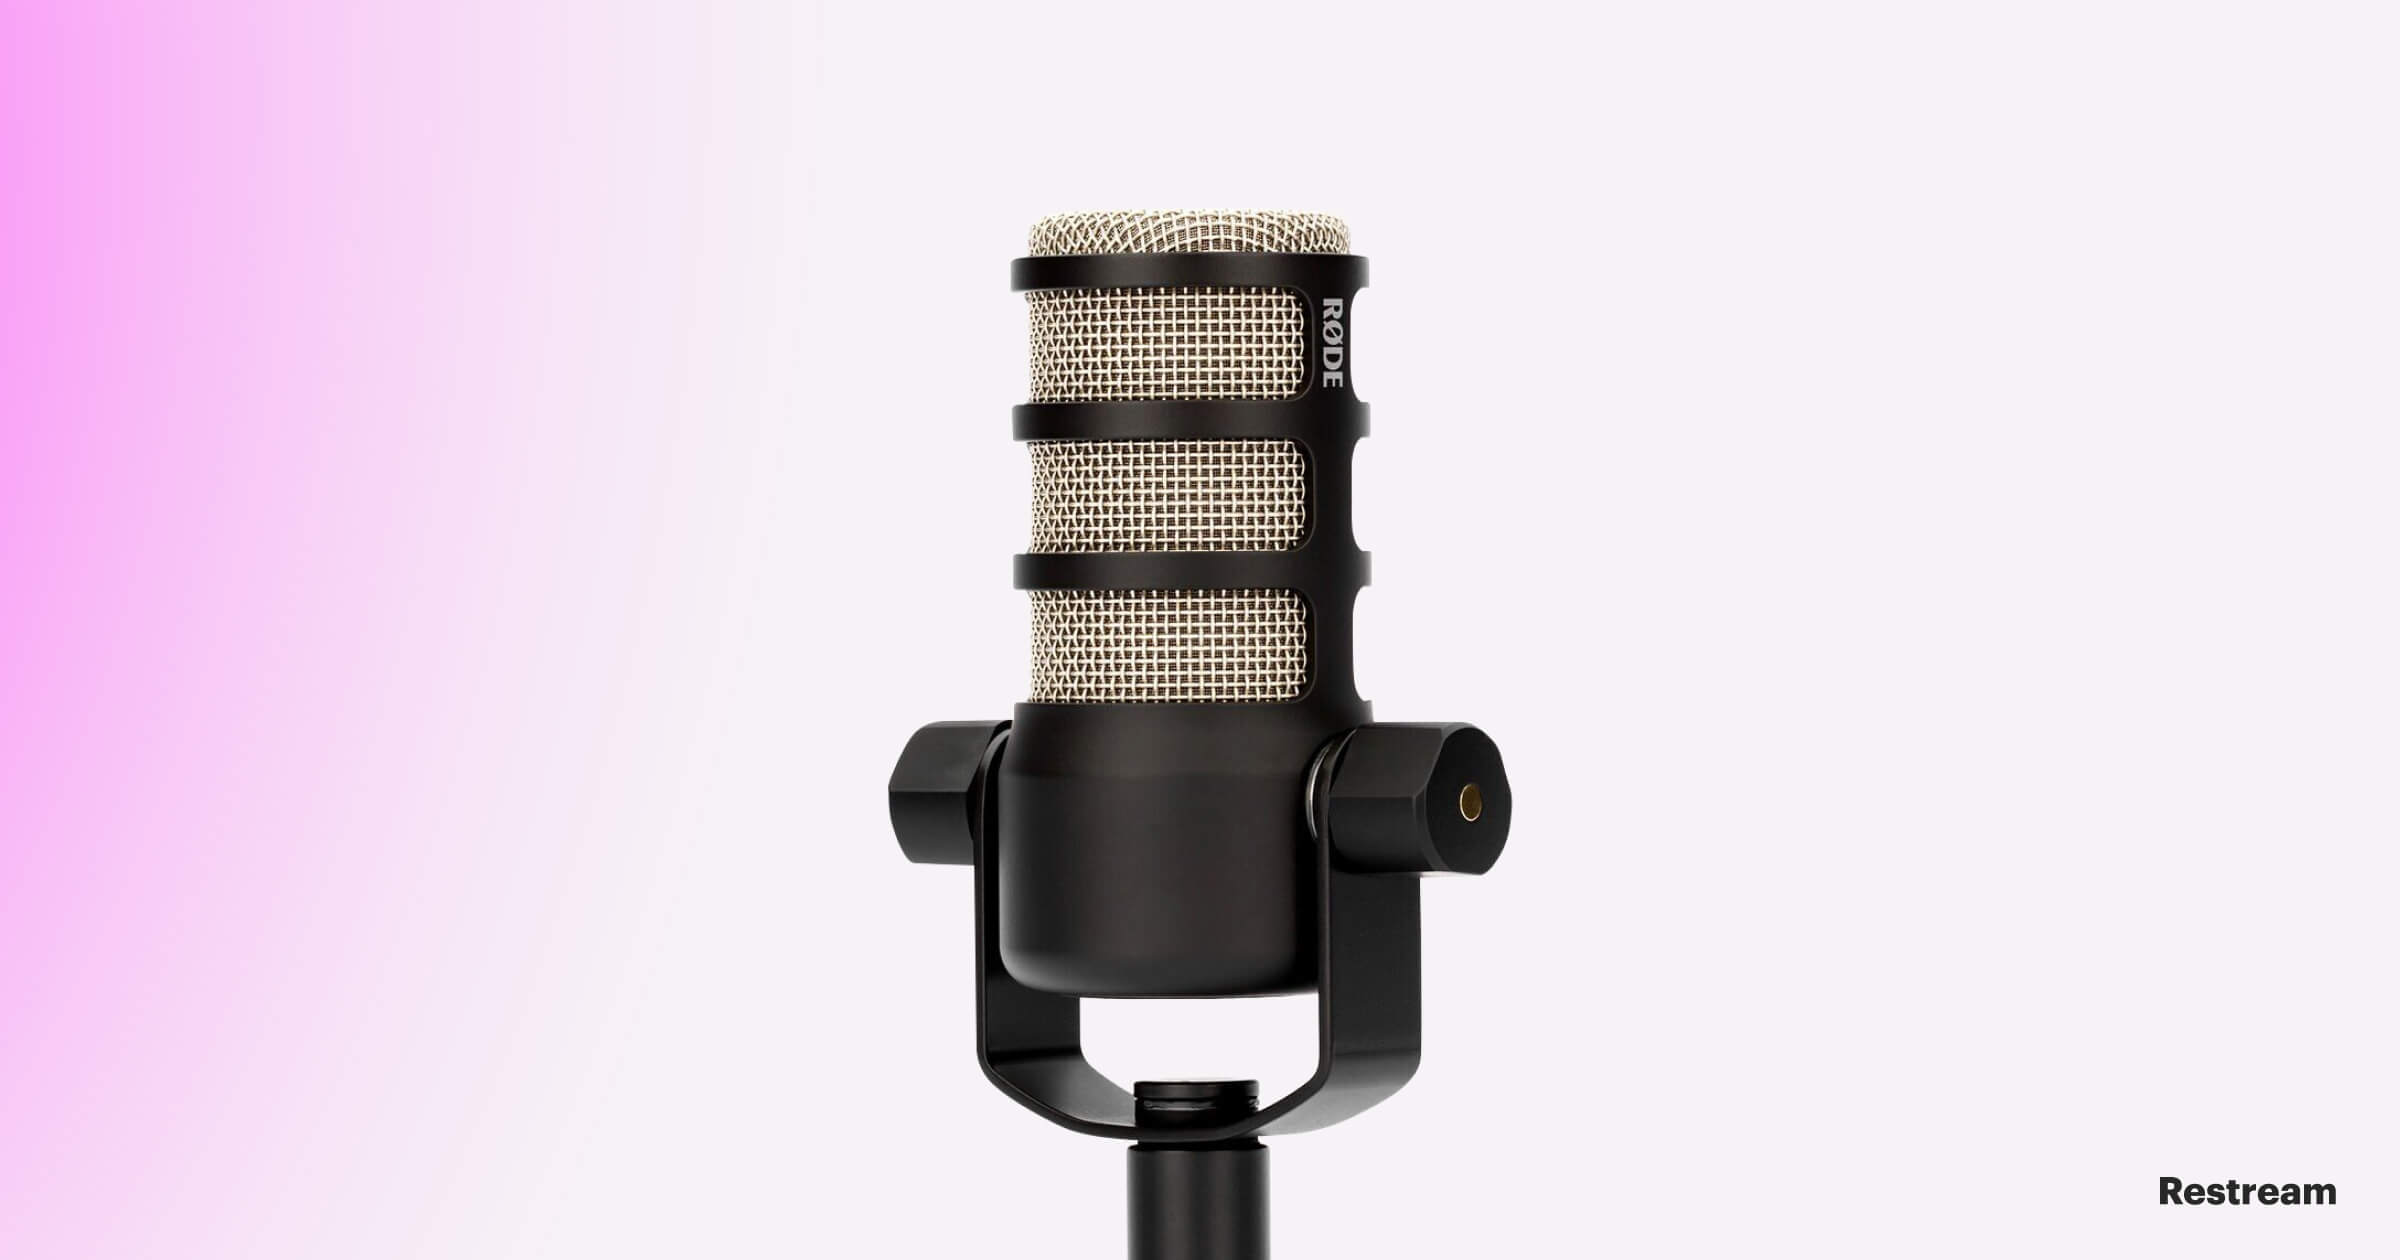microphone: (841, 178, 1533, 1260)
